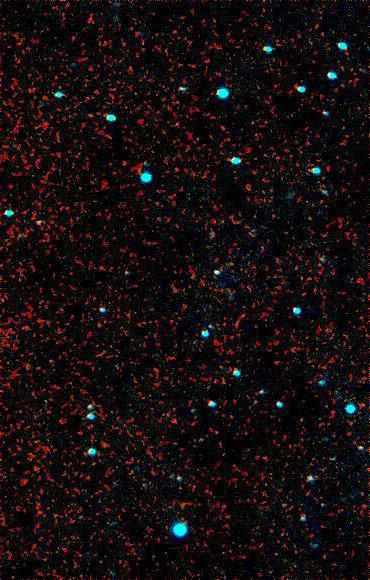star: (286, 403, 316, 433)
